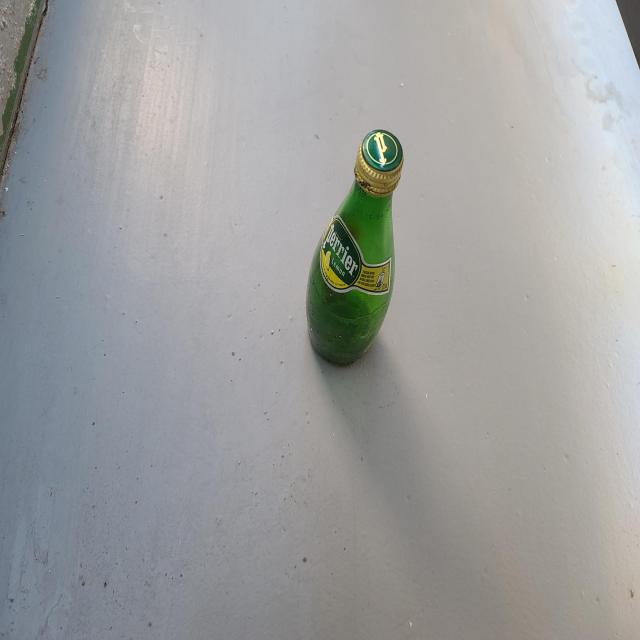glass: (306, 128, 404, 364)
